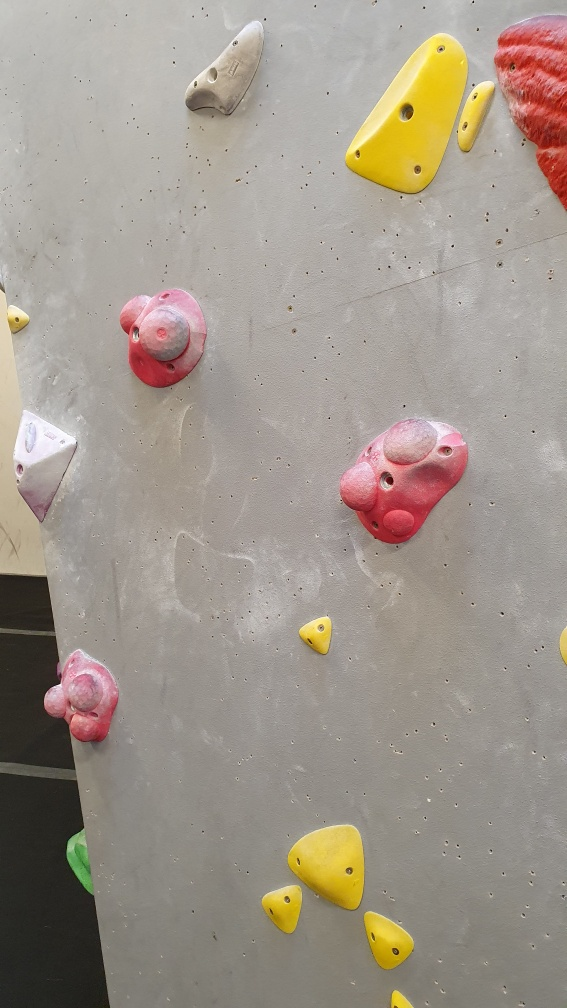Sloper: (338, 411, 470, 549), (120, 284, 211, 390), (44, 650, 121, 742)
